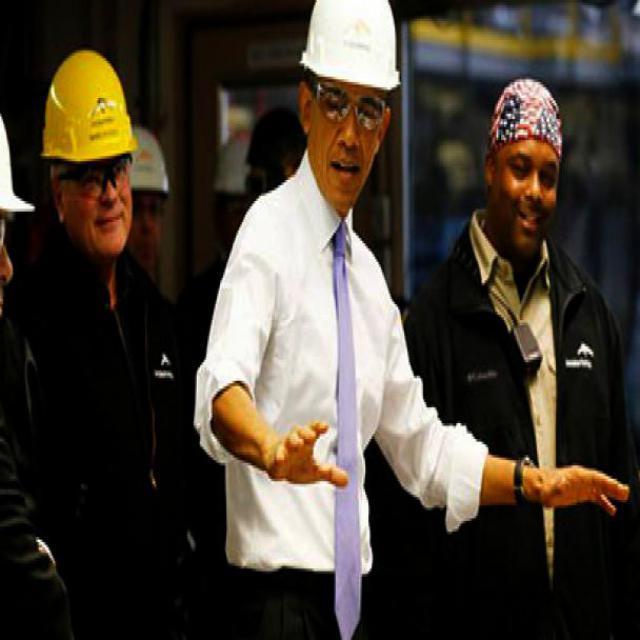helmet: (32, 34, 145, 262), (285, 0, 405, 210), (0, 31, 29, 371)
